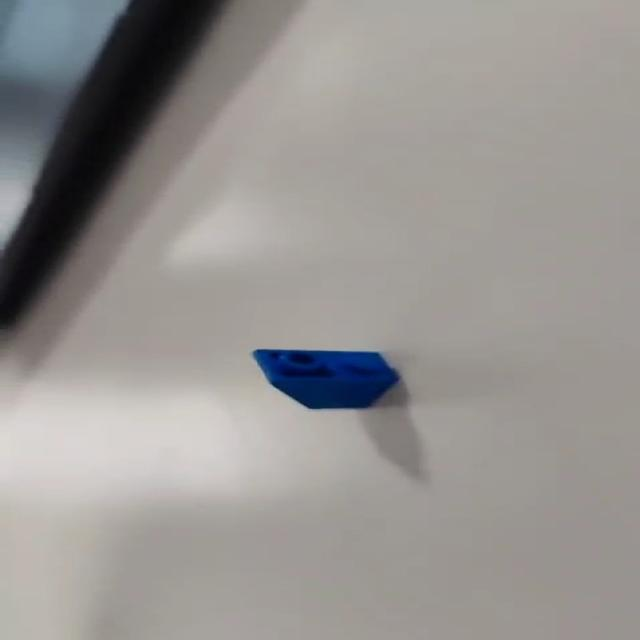X1x2x1: (248, 348, 404, 410)
